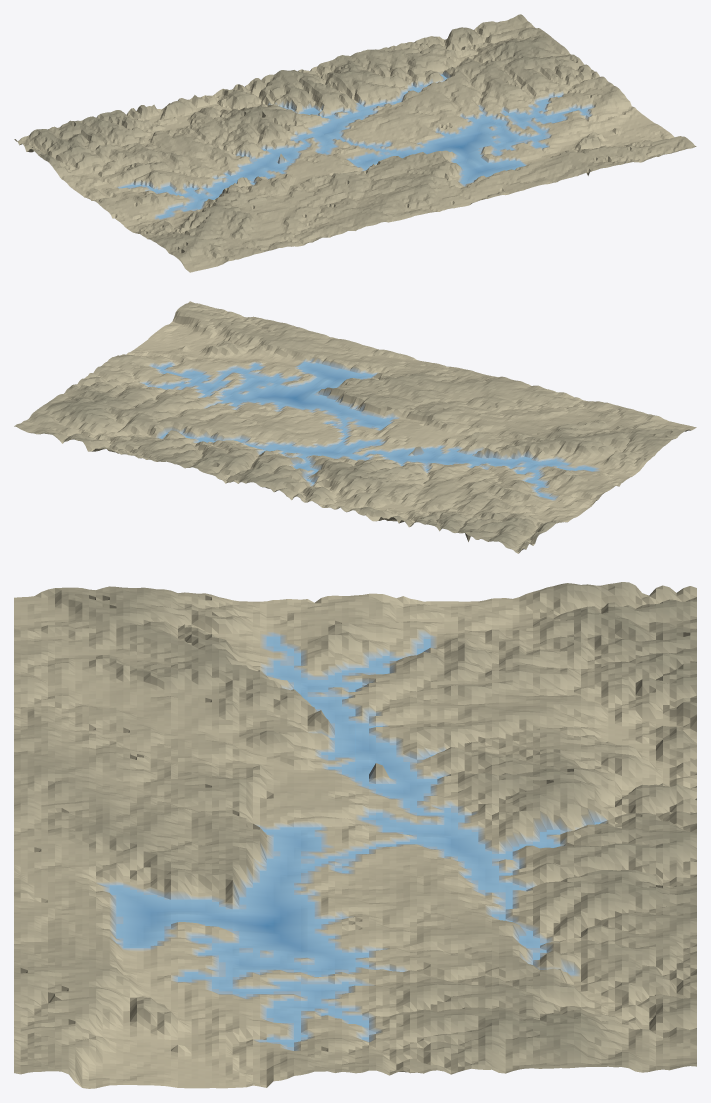
Rendered from greers_ferry_lake_ar.glb.
3 views of the same model, one above another, from view 1: azimuth 30°, elevation 25°; view 2: azimuth 150°, elevation 25°; view 3: azimuth 270°, elevation 25° (orthographic). The views are drawn at different scales.
Visible parts, largest first — view 1: terrain, water; view 2: terrain, water; view 3: terrain, water.
Boxes of the visible parts, x1,y1,x2,y2 form: terrain: (14, 14, 696, 272); water: (121, 75, 587, 218); terrain: (14, 301, 696, 553); water: (145, 362, 595, 498); terrain: (14, 582, 696, 1088); water: (109, 636, 600, 1046).
Bounding box in the file's own units: 45385 × 1344 × 27269.
